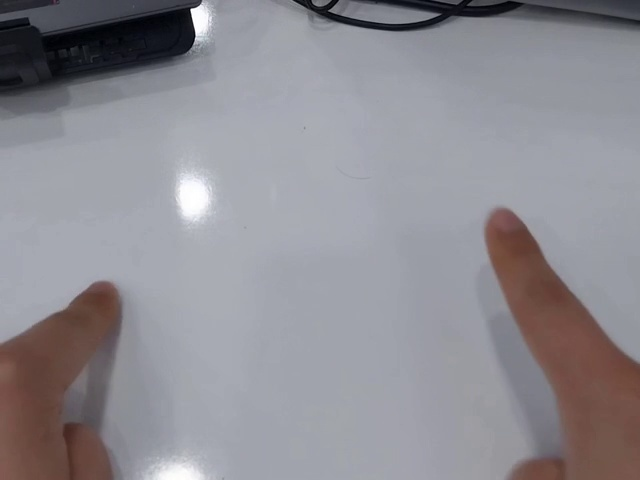fingers: (484, 205, 542, 267), (69, 279, 119, 330)
